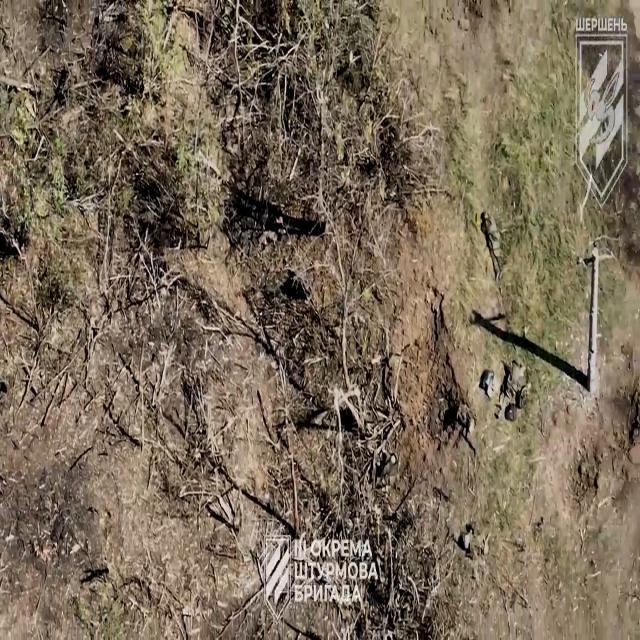MIL_Pax: (495, 360, 529, 419), (480, 211, 502, 279)
